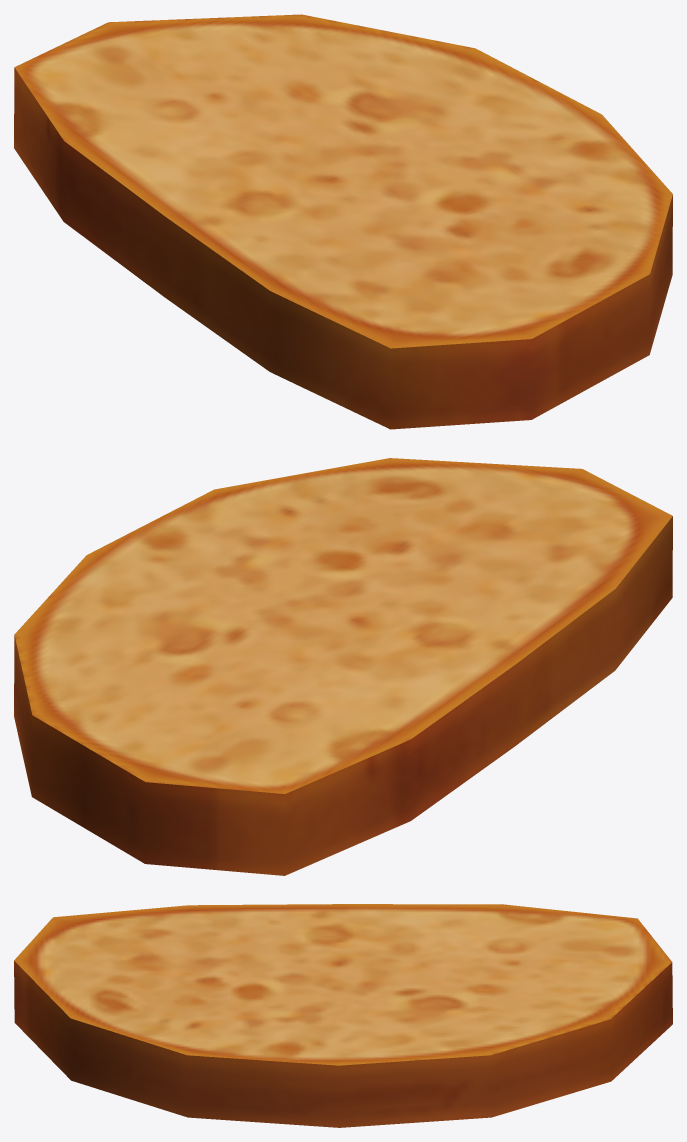
Rendered from SE_Bread_03.fbx.
3 views of the same model, one above another, from view 1: azimuth 30°, elevation 25°; view 2: azimuth 150°, elevation 25°; view 3: azimuth 270°, elevation 25° (orthographic). The views are drawn at different scales.
Parts seen in each view (by area): view 1: SE_Bread_03; view 2: SE_Bread_03; view 3: SE_Bread_03.
Part boxes in pixels (x1,y1,x2,y2): SE_Bread_03: (14, 14, 672, 429); SE_Bread_03: (14, 458, 672, 875); SE_Bread_03: (14, 904, 672, 1127).
Size of the model in its own units: 1 by 0.1859 by 1.72.
